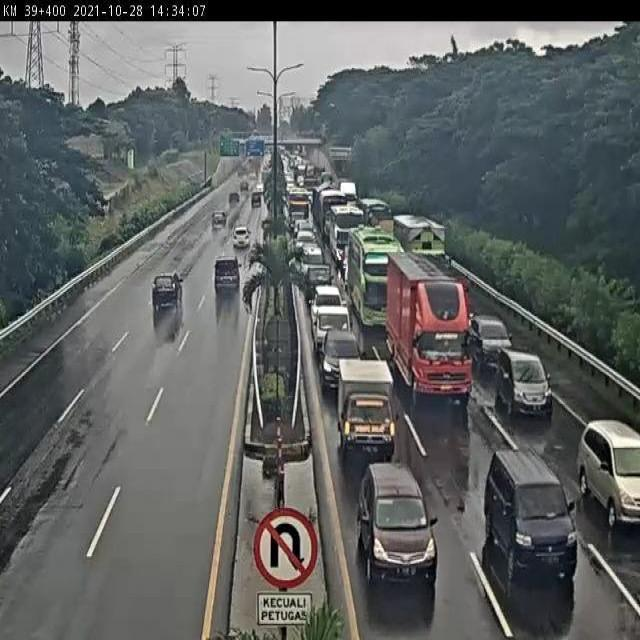car: (481, 449, 581, 584), (353, 463, 439, 593), (577, 420, 640, 529), (335, 352, 395, 457), (494, 348, 550, 415), (320, 331, 361, 387), (313, 303, 352, 357), (466, 312, 508, 359), (146, 272, 185, 313), (298, 259, 330, 299), (210, 262, 241, 298), (307, 283, 346, 308), (448, 299, 471, 340), (227, 227, 253, 255), (296, 238, 320, 266), (294, 223, 312, 243)
truck: (388, 248, 473, 401), (348, 228, 401, 329), (392, 216, 448, 284), (329, 203, 364, 264)
